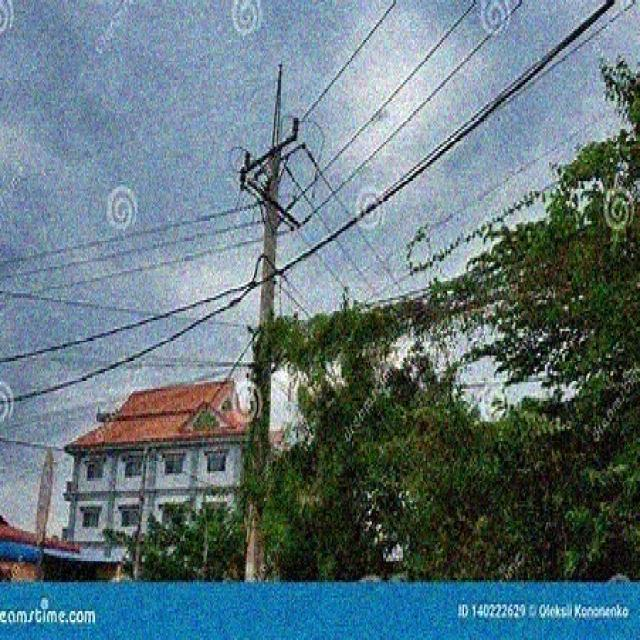critical vegetation: (258, 258, 640, 450)
